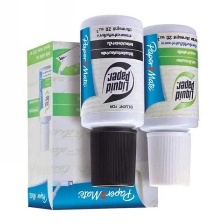book: (25, 39, 162, 210)
correction_fluid: (77, 12, 146, 189), (135, 22, 202, 188)
